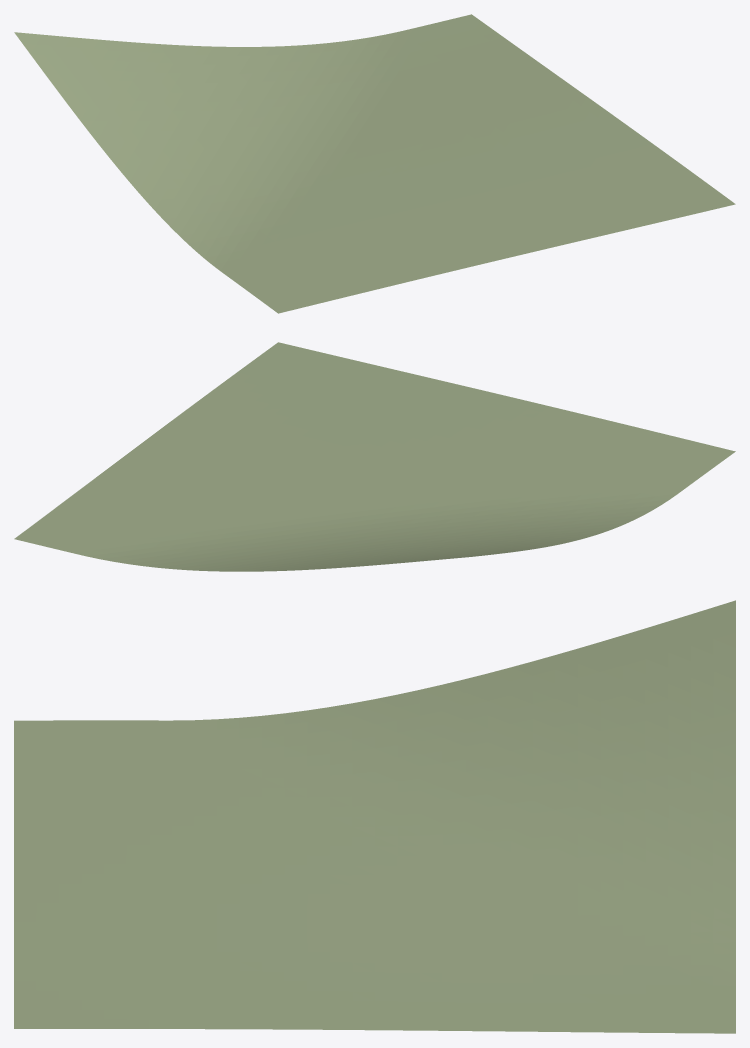
File: desert-28-22.glb
The picture shows the model from 3 angles, top to bottom: view 1: azimuth 30°, elevation 25°; view 2: azimuth 150°, elevation 25°; view 3: azimuth 270°, elevation 25°; orthographic projection. The views are drawn at different scales.
Visible parts, largest first — view 1: desert-28-22; view 2: desert-28-22; view 3: desert-28-22.
Boxes of the visible parts, <box> form: desert-28-22: <box>14,14,735,313</box>; desert-28-22: <box>14,342,735,571</box>; desert-28-22: <box>14,600,735,1033</box>.
Size of the model in its own units: 512 by 100 by 512.
